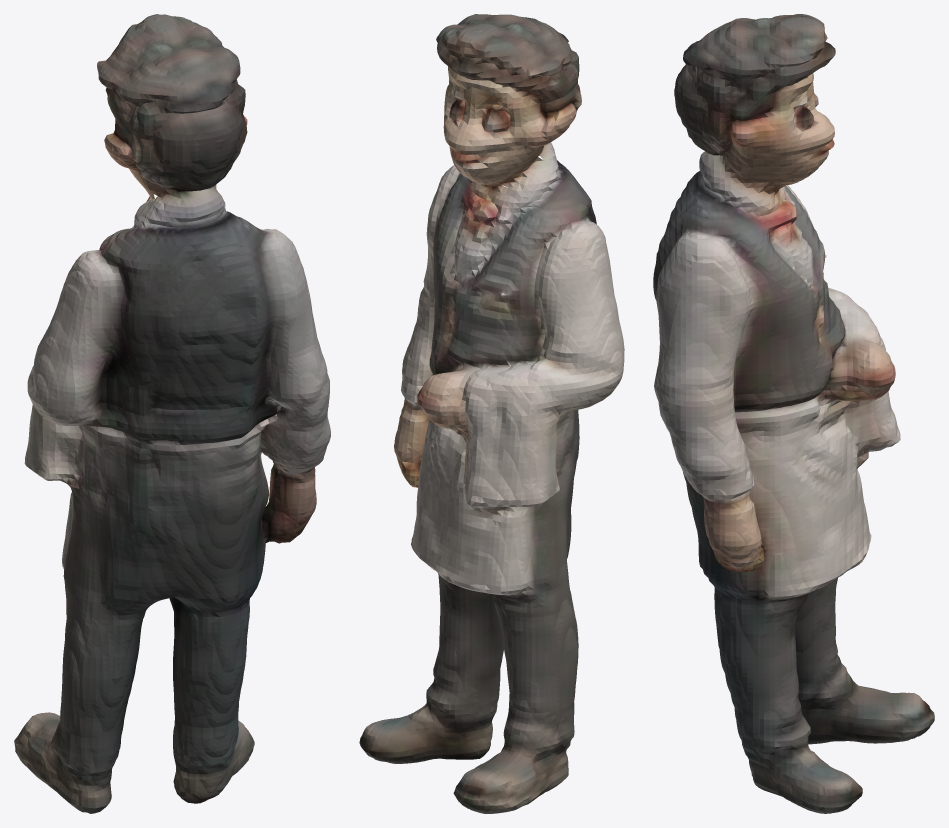
Rendered from waiter.glb.
3 views of the same model, side by side, from view 1: azimuth 30°, elevation 25°; view 2: azimuth 150°, elevation 25°; view 3: azimuth 270°, elevation 25° (orthographic). The views are drawn at different scales.
Visible parts, largest first — view 1: world; view 2: world; view 3: world.
Boxes of the visible parts, left/top/right/bottom form: world: left=14, top=14, right=330, bottom=813; world: left=359, top=14, right=624, bottom=813; world: left=653, top=14, right=934, bottom=813.
Bounding box in the file's own units: 0.3512 × 1.02 × 0.3458.
